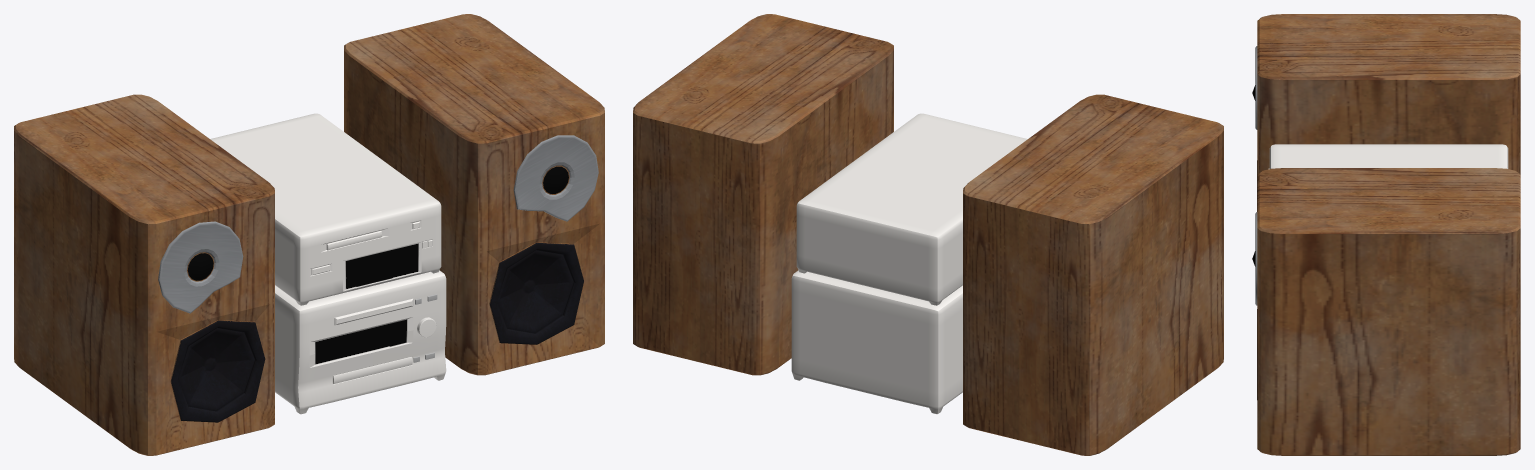
Rendered from AudioComponent.fbx.
3 renders of one model, left to right at view 1: azimuth 30°, elevation 25°; view 2: azimuth 150°, elevation 25°; view 3: azimuth 270°, elevation 25°, orthographic. The views are drawn at different scales.
Parts seen in each view (by area): view 1: AudioComponent_Speaker_R, AudioComponent_Speaker_L, AudioComponent_Component; view 2: AudioComponent_Speaker_R, AudioComponent_Speaker_L, AudioComponent_Component; view 3: AudioComponent_Speaker_L, AudioComponent_Speaker_R, AudioComponent_Component.
Boxes of the visible parts, left/top/right/bottom form: AudioComponent_Speaker_R: left=14, top=94, right=274, bottom=455; AudioComponent_Speaker_L: left=344, top=14, right=604, bottom=375; AudioComponent_Component: left=210, top=113, right=446, bottom=414; AudioComponent_Speaker_R: left=963, top=94, right=1223, bottom=455; AudioComponent_Speaker_L: left=633, top=14, right=893, bottom=375; AudioComponent_Component: left=791, top=113, right=1027, bottom=414; AudioComponent_Speaker_L: left=1252, top=168, right=1520, bottom=455; AudioComponent_Speaker_R: left=1252, top=14, right=1520, bottom=211; AudioComponent_Component: left=1268, top=144, right=1508, bottom=169.
Bounding box in the file's own units: 287 × 137 × 149.
2 materials, 2 textured.
